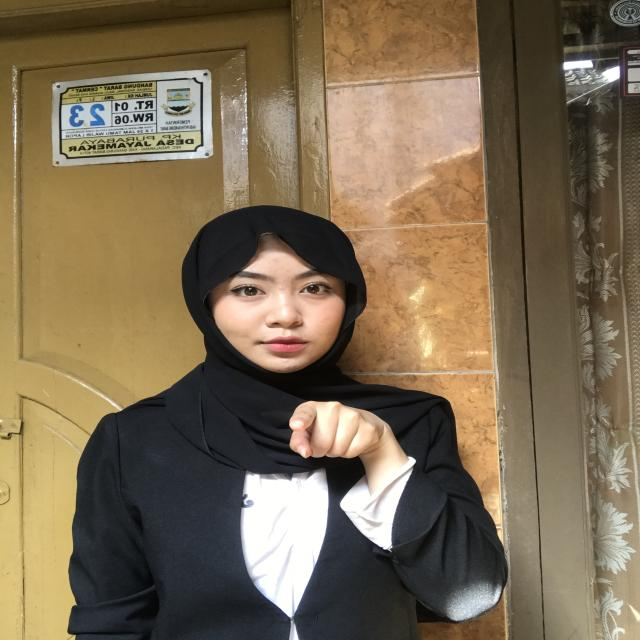kamu: (273, 392, 406, 495)
